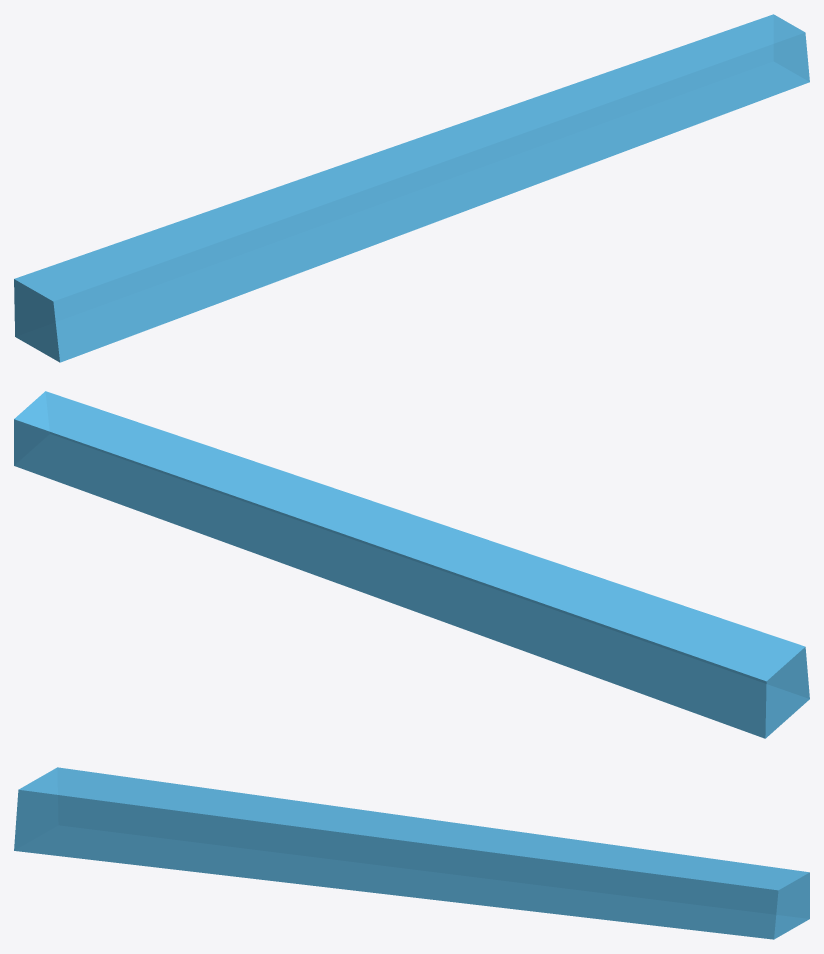
Rendered from Event_421115418_HErechit_38.fbx.
3 views of the same model, one above another, from view 1: azimuth 30°, elevation 25°; view 2: azimuth 150°, elevation 25°; view 3: azimuth 330°, elevation 25° (orthographic).
Visible parts, largest first — view 1: Model; view 2: Model; view 3: Model.
Boxes of the visible parts, x1=… form: Model: x1=14, y1=14, x2=809, y2=362; Model: x1=14, y1=391, x2=809, y2=738; Model: x1=14, y1=767, x2=809, y2=939.
Bounding box in the file's own units: 2.43 × 0.4363 × 0.2494.
